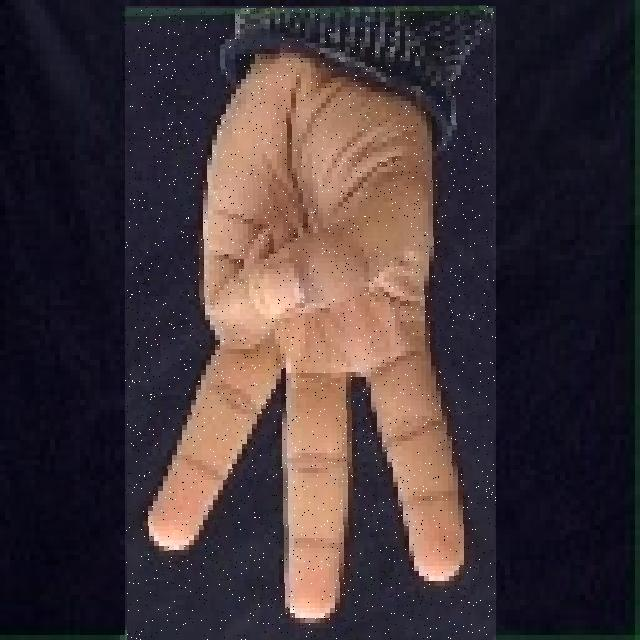Please: (125, 6, 496, 640)
